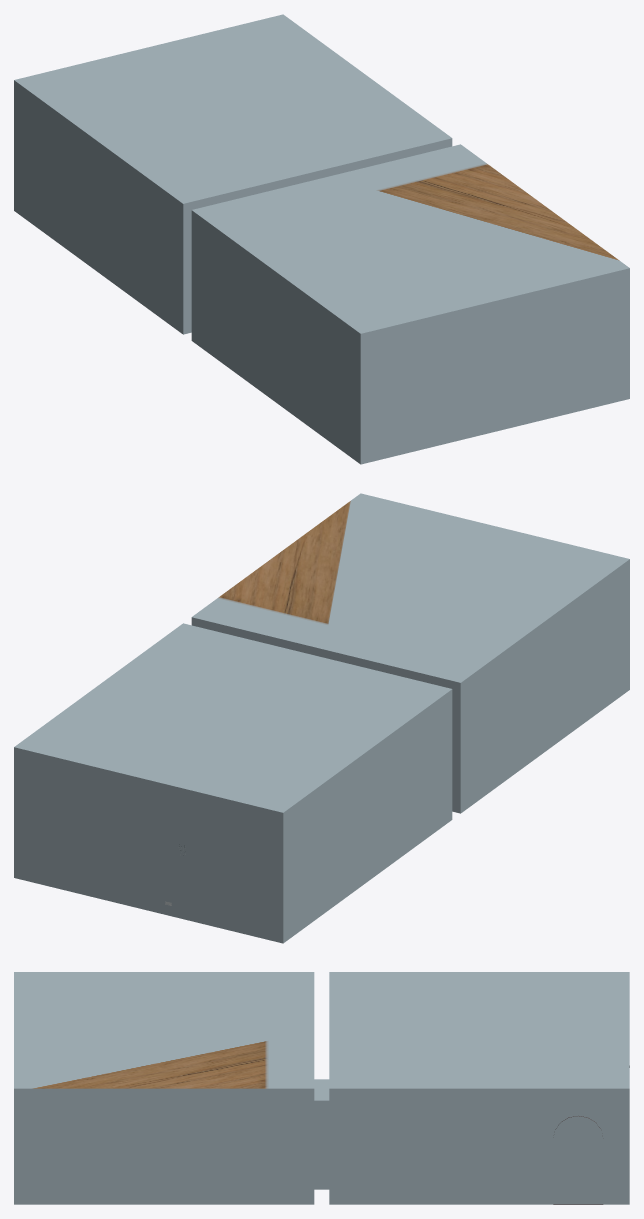
The model's file is testing_level.fbx.
3 renders of one model, top to bottom at view 1: azimuth 30°, elevation 25°; view 2: azimuth 150°, elevation 25°; view 3: azimuth 270°, elevation 25°, orthographic. The views are drawn at different scales.
Visible parts, largest first — view 1: Room; view 2: Room; view 3: Room.
Part boxes in pixels (x1,y1,x2,y2): Room: [14, 14, 629, 464]; Room: [14, 493, 629, 943]; Room: [14, 972, 629, 1204].
Bounding box in the file's own units: 538 × 249 × 1198.
